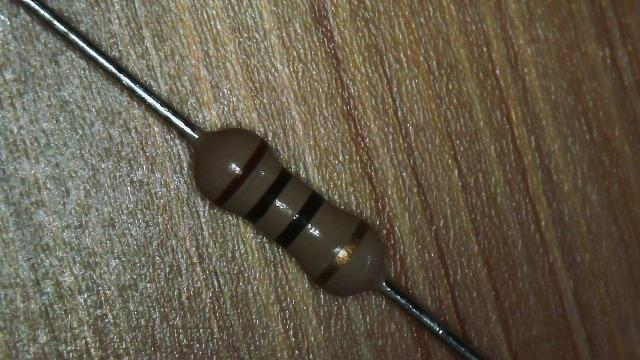black: (244, 167, 293, 224), (275, 195, 326, 243)
brown: (210, 138, 270, 211)
gold: (314, 220, 368, 293)
resistor: (141, 84, 418, 328)
